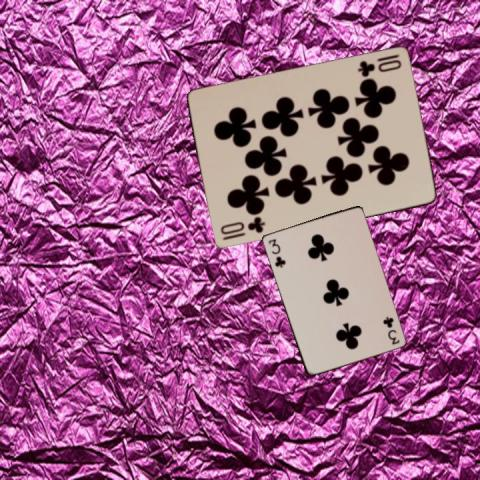10c: (217, 214, 266, 242), (354, 51, 403, 79)
3c: (265, 236, 287, 269), (380, 313, 401, 346)
